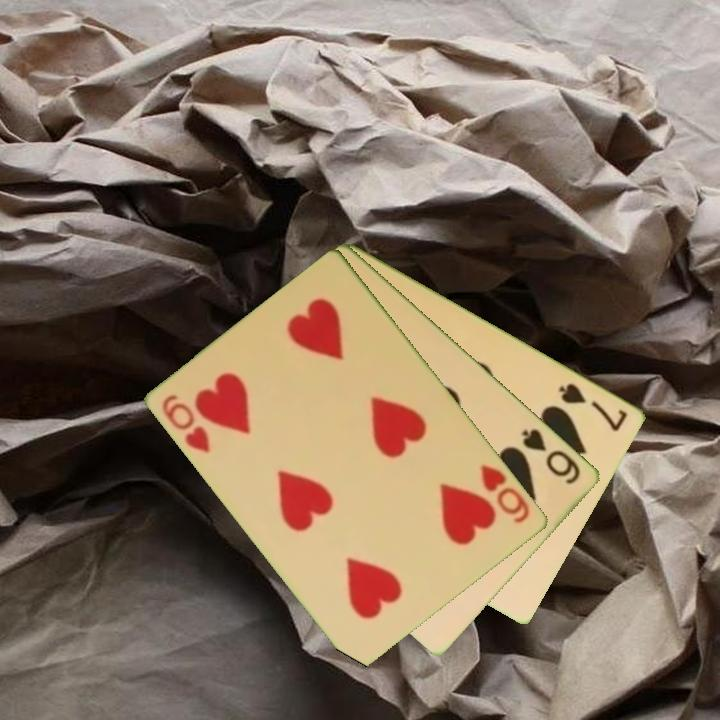6h: (477, 461, 534, 527), (158, 390, 214, 457)
6s: (518, 424, 584, 487)
7s: (555, 379, 632, 435)
